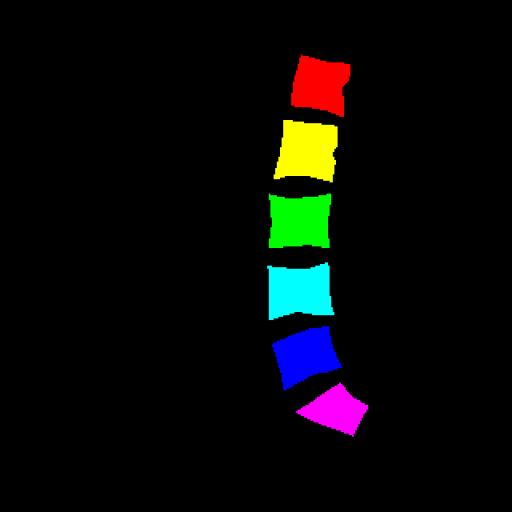L1: (291, 55, 350, 116)
L2: (274, 120, 338, 182)
L3: (269, 194, 330, 248)
L4: (267, 263, 334, 320)
L5: (272, 326, 341, 390)
S1: (297, 383, 368, 436)
